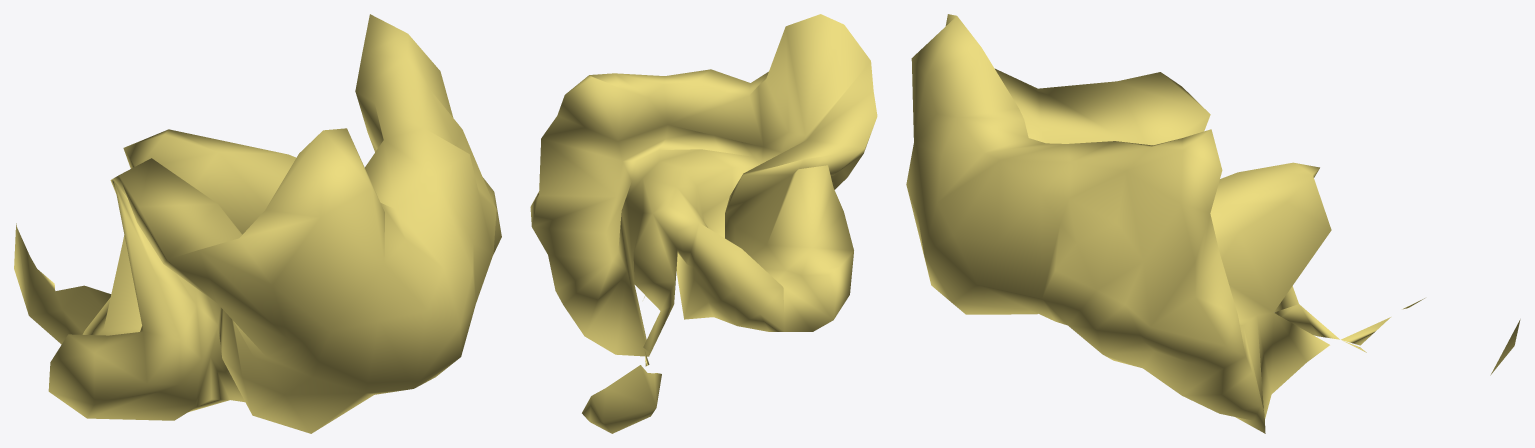
File: temporal-pole-r.glb
3 renders of one model, left to right at view 1: azimuth 30°, elevation 25°; view 2: azimuth 150°, elevation 25°; view 3: azimuth 270°, elevation 25°, orthographic. The views are drawn at different scales.
Visible parts, largest first — view 1: Temporal pole.r; view 2: Temporal pole.r; view 3: Temporal pole.r.
Part boxes in pixels (box(x1,y1,x2,y2)): Temporal pole.r: box(14, 14, 501, 433); Temporal pole.r: box(530, 14, 877, 433); Temporal pole.r: box(906, 14, 1520, 433).
Bounding box in the file's own units: 0.0295 × 0.0277 × 0.042.
